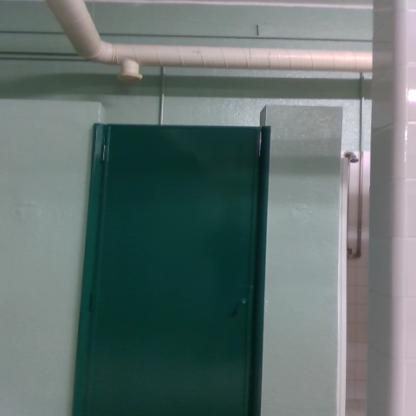closed: (89, 99, 296, 416)
